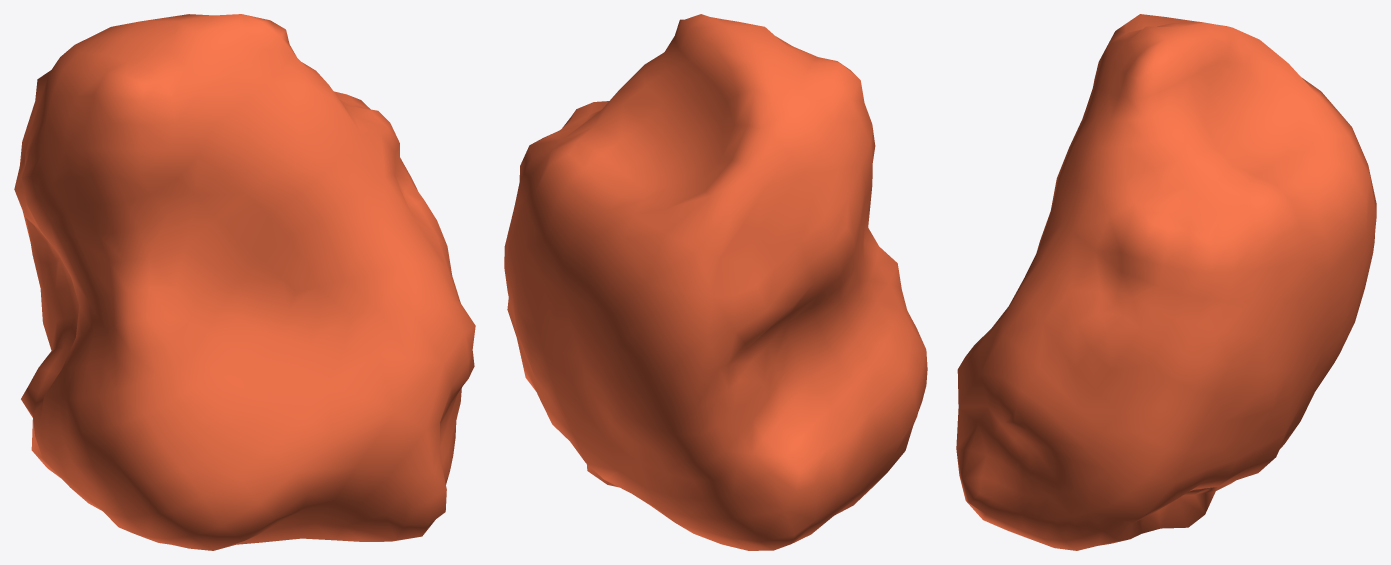
Rendered from Pedraustor5.fbx.
3 views of the same model, side by side, from view 1: azimuth 30°, elevation 25°; view 2: azimuth 150°, elevation 25°; view 3: azimuth 270°, elevation 25° (orthographic). The views are drawn at different scales.
Parts seen in each view (by area): view 1: sphere1; view 2: sphere1; view 3: sphere1.
Boxes of the visible parts, bbox=[...] form: sphere1: bbox=[14, 14, 475, 550]; sphere1: bbox=[504, 14, 927, 550]; sphere1: bbox=[956, 14, 1376, 550].
Size of the model in its own units: 1.86 by 2.29 by 1.94.
